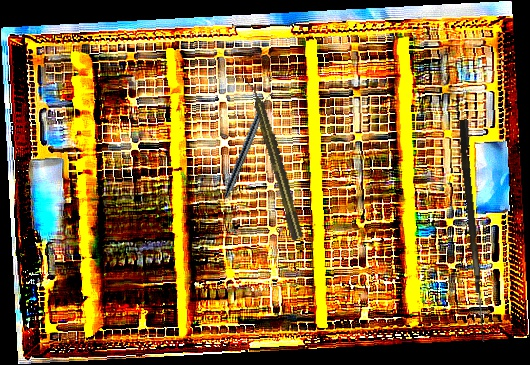Handpiece: (245, 80, 306, 242), (222, 90, 274, 200)
Hook Surgical: (454, 119, 495, 342)
